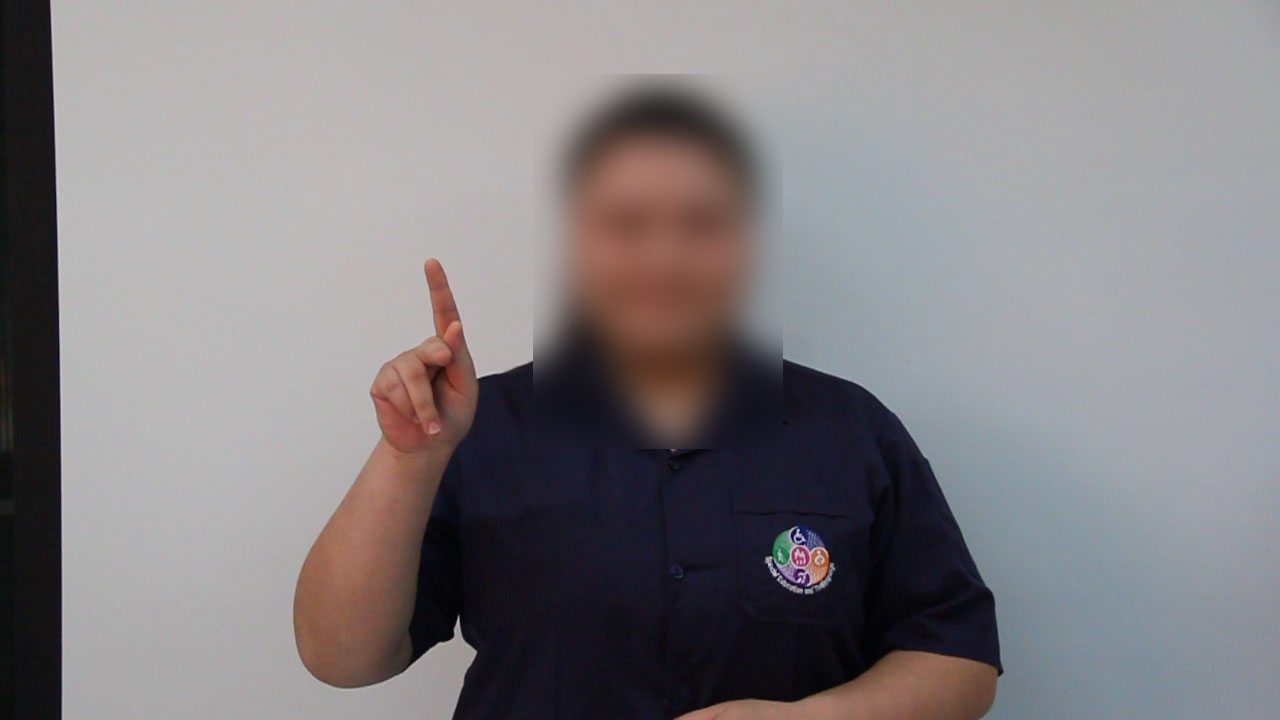ko: (362, 244, 494, 458)
